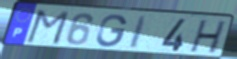4: (160, 17, 188, 54)
6: (65, 12, 95, 47)
G: (95, 13, 129, 48)
H: (187, 20, 229, 55)
I: (127, 15, 151, 51)
M: (24, 9, 72, 46)
